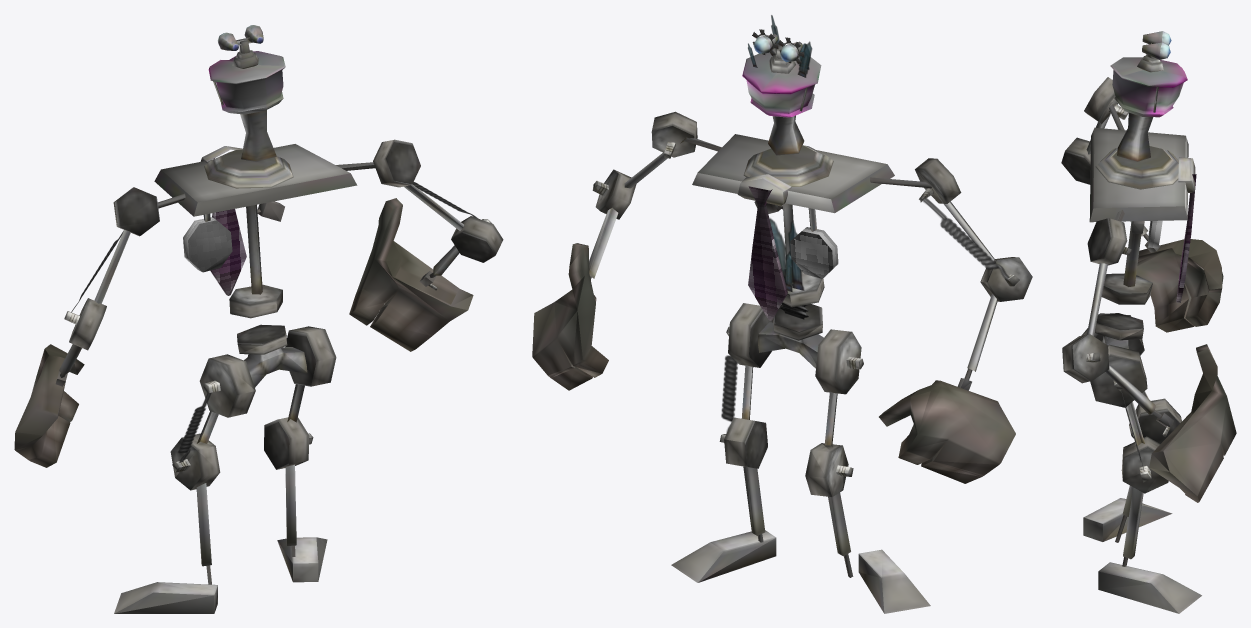
Rendered from robot_c.glb.
3 renders of one model, left to right at view 1: azimuth 30°, elevation 25°; view 2: azimuth 150°, elevation 25°; view 3: azimuth 270°, elevation 25°, orthographic. The views are drawn at different scales.
Parts seen in each view (by area): view 1: pieces, pieces10, pieces8, pieces4, pieces5, pieces3, pieces2, pieces7, tie, pieces9, pieces6; view 2: pieces, pieces10, pieces8, tie, pieces5, pieces4, pieces6, pieces3, pieces7, pieces9, pieces2; view 3: pieces, pieces10, pieces8, pieces7, pieces4, pieces3, pieces5, pieces6, pieces2, tie.
Boxes of the visible parts, left/top/right/bottom form: pieces: left=14, top=162, right=477, bottom=613; pieces10: left=154, top=144, right=357, bottom=216; pieces8: left=208, top=25, right=285, bottom=161; pieces4: left=264, top=417, right=313, bottom=557; pieces5: left=170, top=433, right=220, bottom=584; pieces3: left=373, top=139, right=420, bottom=187; pieces2: left=113, top=187, right=159, bottom=236; pieces7: left=451, top=216, right=503, bottom=262; tie: left=210, top=158, right=246, bottom=295; pieces9: left=244, top=347, right=307, bottom=387; pieces6: left=64, top=298, right=106, bottom=350; pieces: left=532, top=137, right=1015, bottom=613; pieces10: left=692, top=134, right=894, bottom=213; pieces8: left=742, top=15, right=821, bottom=155; tie: left=748, top=186, right=787, bottom=320; pieces5: left=805, top=443, right=853, bottom=577; pieces4: left=719, top=417, right=767, bottom=542; pieces6: left=980, top=257, right=1032, bottom=301; pieces3: left=651, top=111, right=697, bottom=157; pieces7: left=592, top=169, right=636, bottom=219; pieces9: left=758, top=322, right=823, bottom=368; pieces2: left=915, top=158, right=961, bottom=203; pieces: left=1081, top=104, right=1236, bottom=613; pieces10: left=1089, top=127, right=1195, bottom=222; pieces8: left=1110, top=31, right=1187, bottom=161; pieces7: left=1062, top=333, right=1109, bottom=383; pieces4: left=1121, top=436, right=1168, bottom=566; pieces3: left=1087, top=218, right=1127, bottom=265; pieces5: left=1115, top=398, right=1181, bottom=542; pieces6: left=1061, top=137, right=1090, bottom=184; pieces2: left=1084, top=77, right=1117, bottom=123; tie: left=1176, top=174, right=1196, bottom=302.
Size of the model in its own units: 4.23 by 4.77 by 1.39.
Materials: 8 (8 with a texture image).
